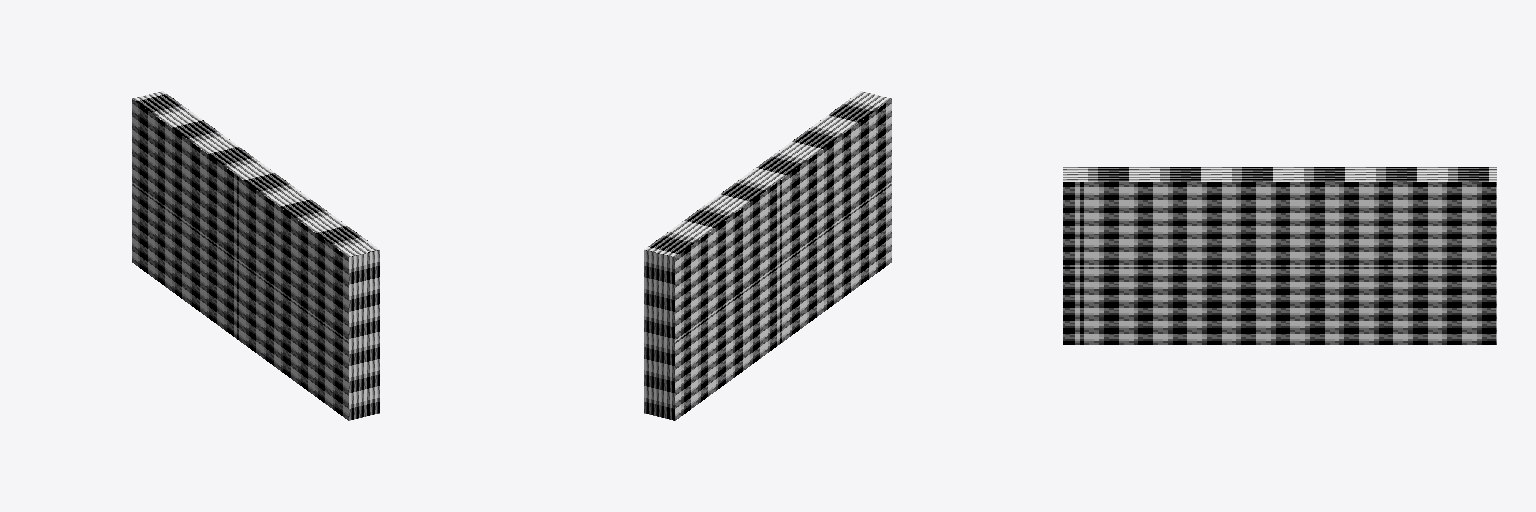
The picture shows the model from 3 angles: view 1: azimuth 30°, elevation 25°; view 2: azimuth 150°, elevation 25°; view 3: azimuth 270°, elevation 25°; orthographic projection.
Parts seen in each view (by area): view 1: 立方体; view 2: 立方体; view 3: 立方体.
Boxes of the visible parts, <box> form: 立方体: <box>132,91,379,420</box>; 立方体: <box>644,91,891,420</box>; 立方体: <box>1063,167,1496,344</box>.
Bounding box in the file's own units: 2 × 10 × 24.
1 materials, 1 textured.